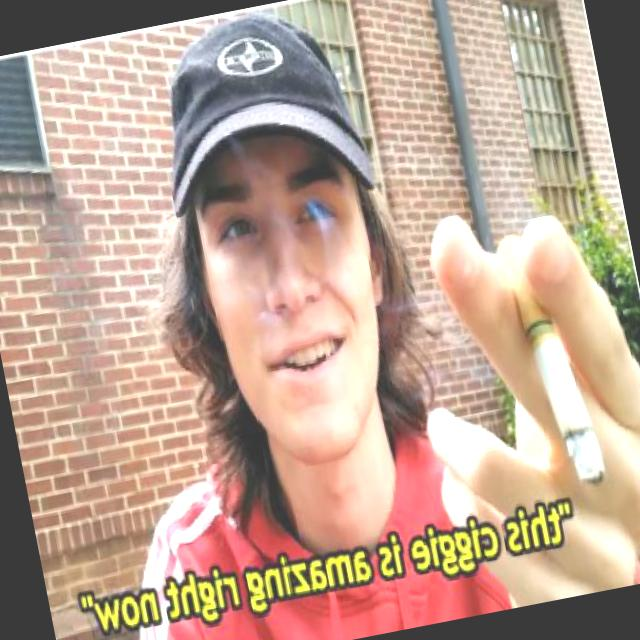cigarette: (476, 195, 617, 503)
